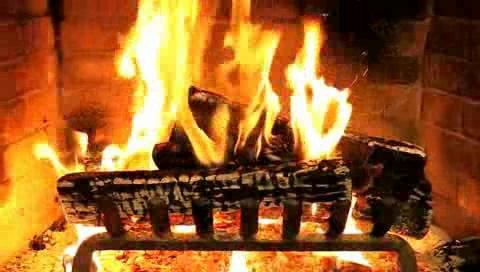fire: (115, 0, 358, 162)
